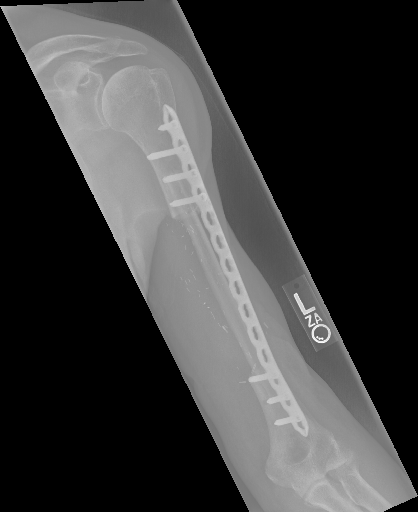implant: (175, 191, 263, 337), (135, 100, 215, 230), (243, 325, 311, 446)
